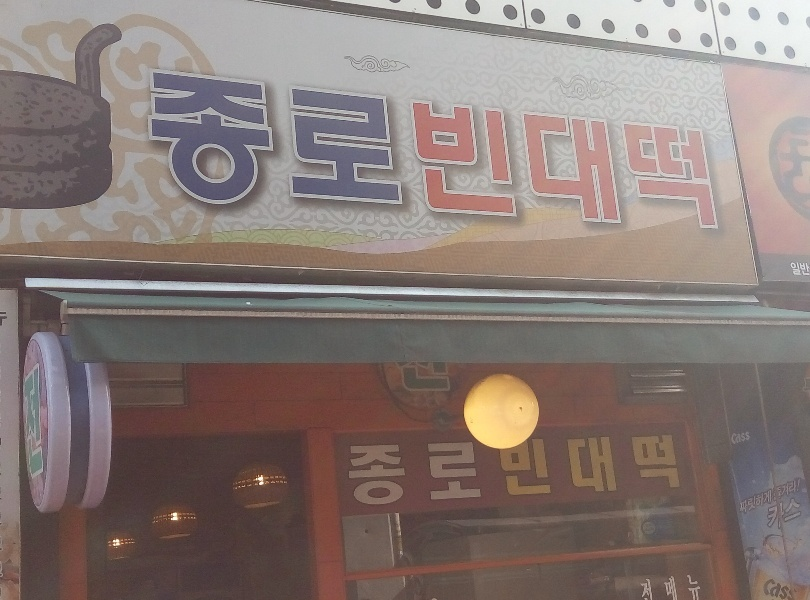text: (145, 68, 160, 231), (161, 68, 176, 231), (177, 68, 192, 231), (193, 68, 208, 231), (209, 68, 224, 231), (225, 68, 240, 231), (241, 68, 256, 231), (257, 68, 272, 231), (273, 68, 288, 231), (289, 68, 304, 231), (305, 68, 320, 231), (321, 68, 336, 231), (337, 68, 352, 231), (353, 68, 368, 231), (369, 68, 384, 231), (385, 68, 400, 231), (401, 68, 416, 231), (417, 68, 432, 231), (433, 68, 448, 231), (449, 68, 464, 231), (465, 68, 480, 231), (481, 68, 496, 231), (497, 68, 512, 231), (513, 68, 528, 231), (529, 68, 544, 231), (545, 68, 560, 231), (561, 68, 576, 231), (577, 68, 592, 231), (593, 68, 608, 231), (609, 68, 624, 231), (625, 68, 640, 231), (641, 68, 656, 231), (657, 68, 672, 231), (673, 68, 688, 231), (689, 68, 704, 231), (705, 68, 720, 231), (33, 360, 46, 484), (353, 429, 368, 513), (369, 429, 384, 513), (385, 429, 400, 513), (401, 429, 416, 513), (417, 429, 432, 513), (433, 429, 448, 513), (449, 429, 464, 513), (465, 429, 480, 513), (481, 429, 496, 513), (497, 429, 512, 513), (513, 429, 528, 513), (529, 429, 544, 513), (545, 429, 560, 513), (561, 429, 576, 513), (577, 429, 592, 513), (593, 429, 608, 513), (609, 429, 624, 513), (625, 429, 640, 513), (641, 429, 656, 513), (657, 429, 672, 513), (22, 360, 32, 484), (673, 429, 685, 513), (769, 494, 784, 535), (785, 494, 800, 535), (345, 429, 352, 513), (401, 361, 416, 394), (417, 361, 432, 394), (433, 361, 448, 394), (689, 572, 705, 600), (641, 572, 656, 600), (657, 572, 672, 600), (673, 572, 688, 600), (753, 489, 768, 516), (769, 575, 784, 600), (785, 575, 800, 600), (739, 489, 752, 516), (785, 478, 801, 499), (721, 68, 723, 231), (737, 430, 751, 448), (789, 261, 800, 277), (801, 261, 810, 277), (765, 494, 768, 535), (397, 361, 400, 394), (731, 430, 736, 448), (637, 572, 640, 600), (769, 489, 772, 516), (781, 478, 784, 499), (801, 494, 802, 535), (449, 361, 450, 394)
